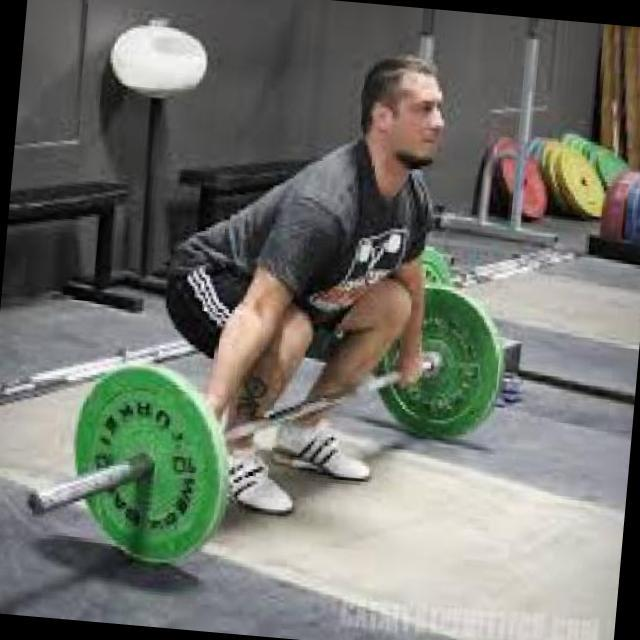barbell: (50, 349, 253, 584)
